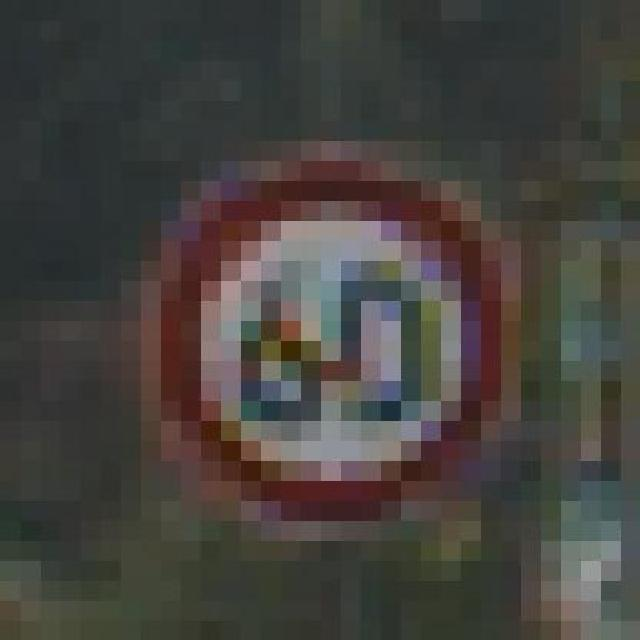forb_speed_over_60: (156, 165, 499, 508)
